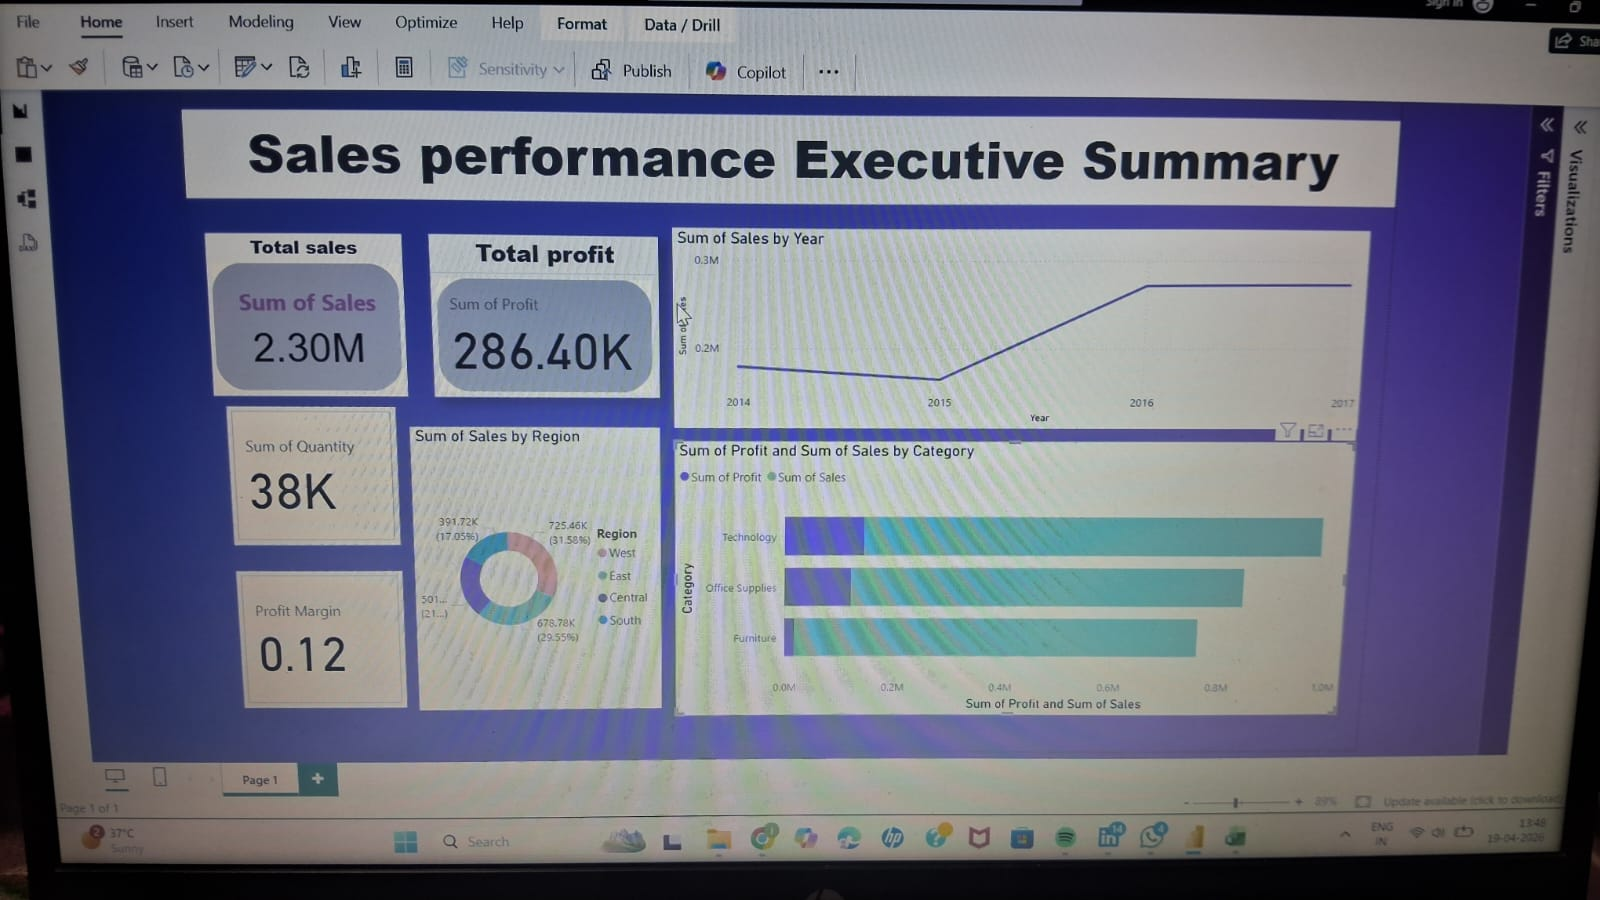

The page's visual inventory and layout, read from the dashboard file:
{"tool":"powerbi","page":{"name":"Page 1","canvas":[1280,720],"ordinal":0},"visuals":[{"type":"cardVisual","title":"Total sales","fields":{"Data":["Sum(task 1.Sales)"]},"box":[16.9,146.5,205.1,171.3],"z":0},{"type":"cardVisual","title":"Total profit","fields":{"Data":["Sum(task 1.Profit)"]},"box":[250.2,146.5,238.9,171.3],"z":1},{"type":"cardVisual","fields":{"Data":["Sum(task 1.Quantity)"]},"box":[29.3,329.1,178.1,151],"z":2},{"type":"cardVisual","fields":{"Data":["task 1.Profit Margin"]},"box":[29.3,509.5,179.2,155.5],"z":3},{"type":"lineChart","fields":{"Category":["task 1.Date.Variation.Date Hierarchy.Year","task 1.Date.Variation.Date Hierarchy.Quarter","task 1.Date.Variation.Date Hierarchy.Month","task 1.Date.Variation.Date Hierarchy.Day"],"Y":["Sum(task 1.Sales)"]},"box":[504.9,136.4,749.5,214.2],"z":4},{"type":"donutChart","fields":{"Category":["task 1.Region"],"Y":["Sum(task 1.Sales)"]},"box":[222,350.5,267.1,317.8],"z":6},{"type":"barChart","fields":{"Category":["task 1.Category"],"Y":["Sum(task 1.Profit)","Sum(task 1.Sales)"]},"box":[504.9,365.2,749.5,312.2],"z":7},{"type":"textbox","box":[0,20.6,1280.3,90.6],"z":8}]}

Visuals, with their boxes in screenshot pixels (x1, y1, x2, y2):
"Total sales" cardVisual: region(47, 162, 309, 381)
"Total profit" cardVisual: region(345, 162, 650, 381)
cardVisual - Sum(task 1.Quantity): region(62, 396, 290, 589)
cardVisual - task 1.Profit Margin: region(62, 626, 291, 825)
lineChart - task 1.Date.Variation.Date Hierarchy.Year x task 1.Date.Variation.Date Hierarchy.Quarter: region(670, 149, 1599, 423)
donutChart - task 1.Region x Sum(task 1.Sales): region(309, 423, 650, 829)
barChart - task 1.Category x Sum(task 1.Profit): region(670, 442, 1599, 841)
textbox: region(25, 1, 1599, 117)
